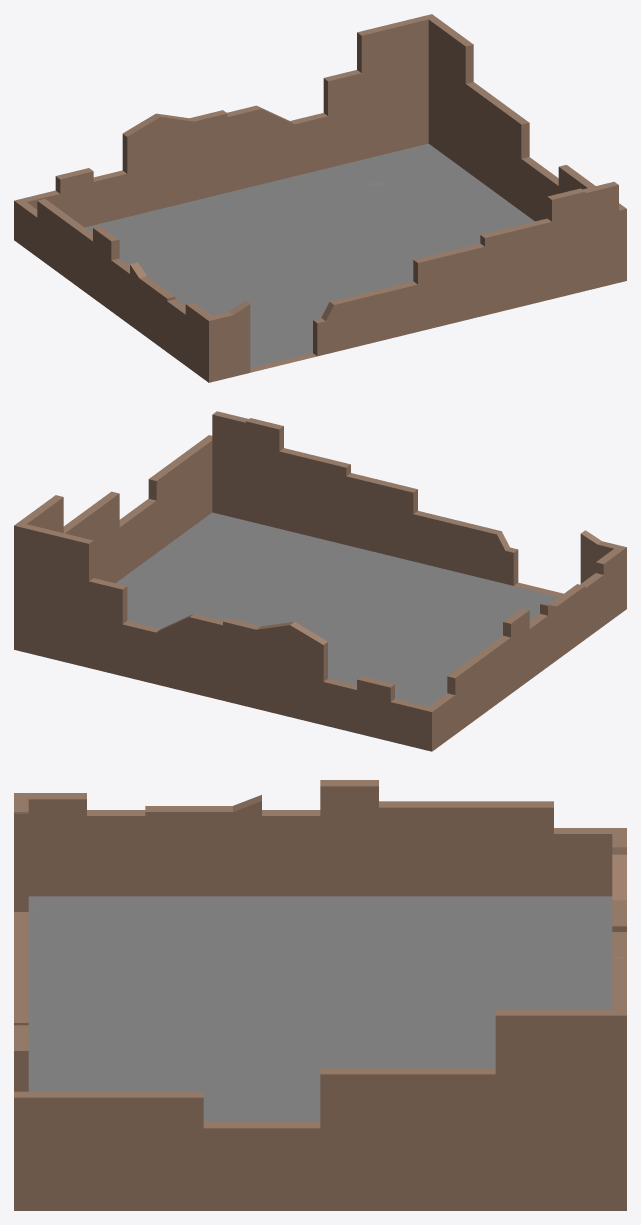
The model's file is 3D_HouseRuins.fbx.
3 renders of one model, top to bottom at view 1: azimuth 30°, elevation 25°; view 2: azimuth 150°, elevation 25°; view 3: azimuth 270°, elevation 25°, orthographic. The views are drawn at different scales.
Visible parts, largest first — view 1: Plane.001; view 2: Plane.001; view 3: Plane.001.
Part boxes in pixels (<box>): Plane.001: <box>14,14,626,382</box>; Plane.001: <box>14,411,626,751</box>; Plane.001: <box>14,780,626,1210</box>.
Size of the model in its own units: 1040 by 295 by 840.
1 material, 1 textured.
